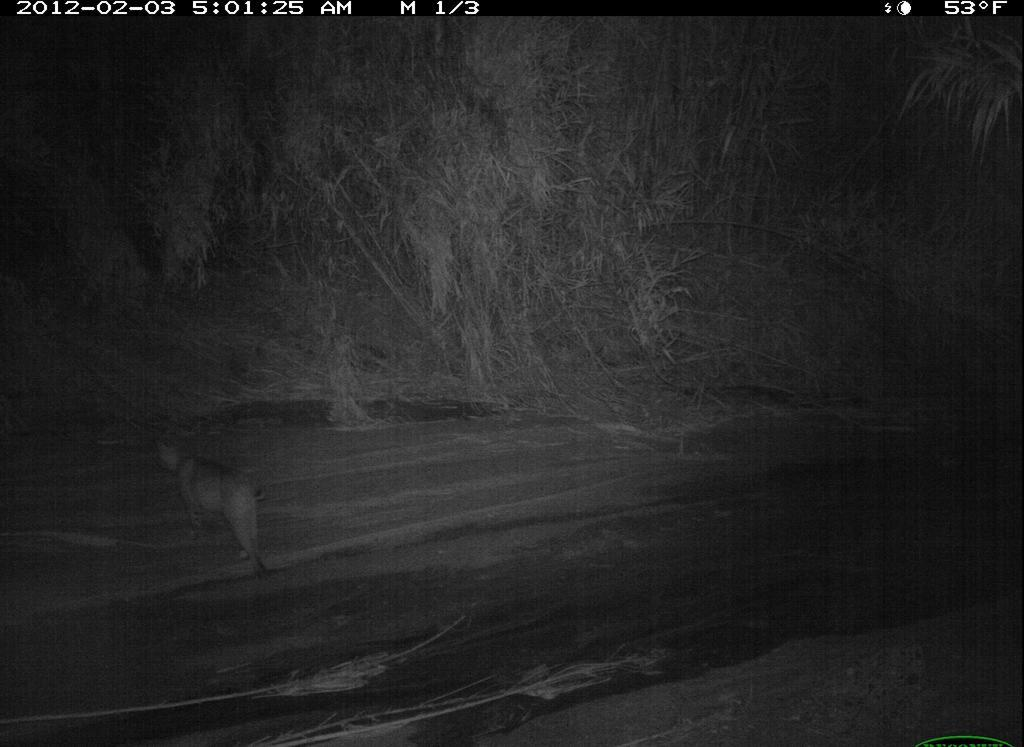bobcat: (148, 428, 281, 589)
